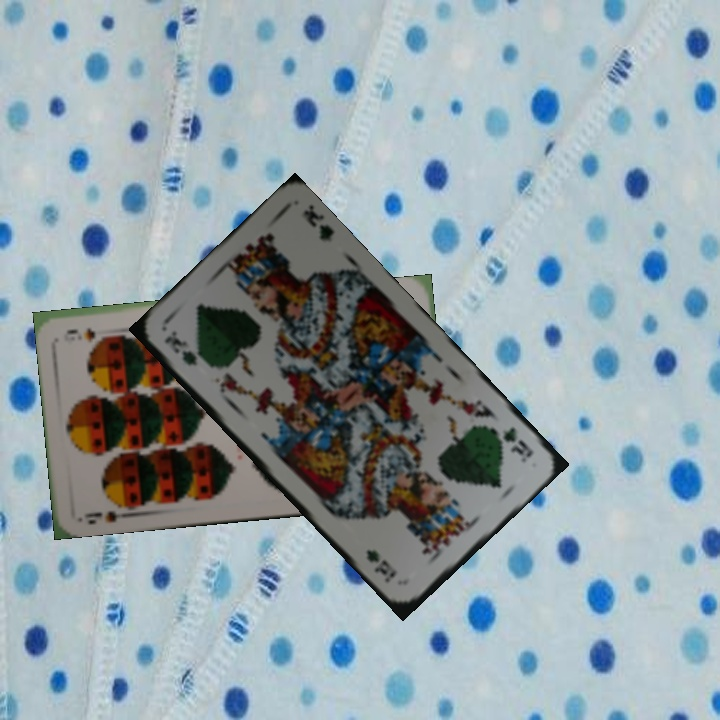GK: (160, 327, 200, 369), (497, 423, 536, 465)
S9: (80, 497, 137, 527)
